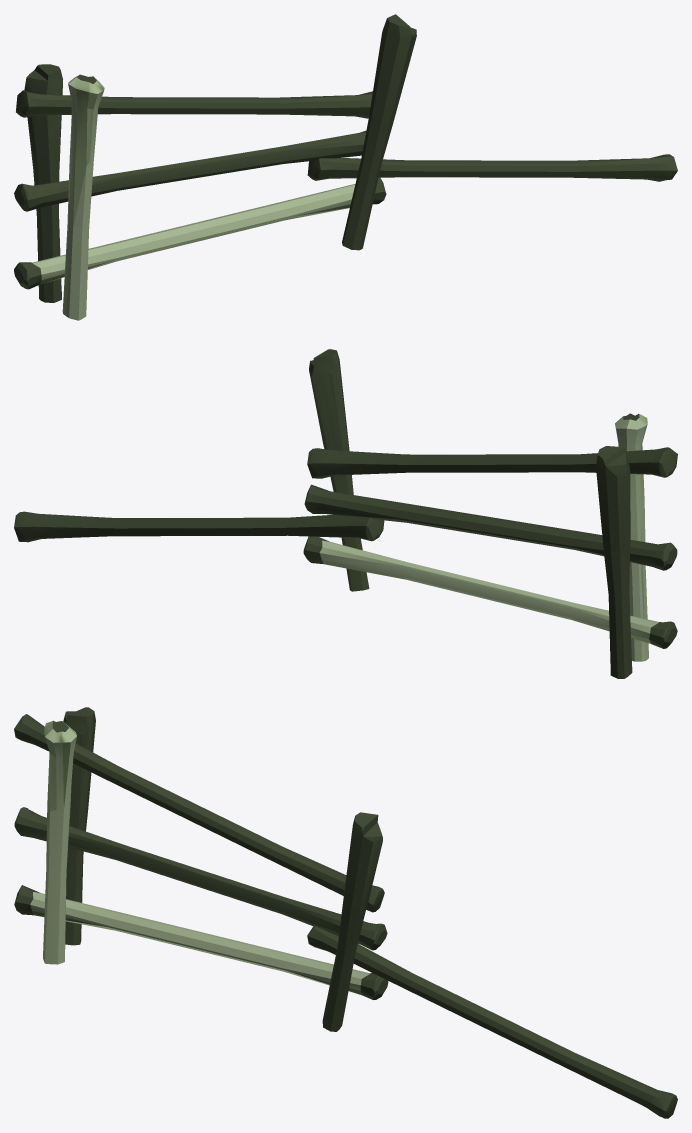
The model's file is EA_Fence_02a.glb.
3 renders of one model, top to bottom at view 1: azimuth 30°, elevation 25°; view 2: azimuth 150°, elevation 25°; view 3: azimuth 330°, elevation 25°, orthographic.
Visible parts, largest first — view 1: EA_Fence_02a; view 2: EA_Fence_02a; view 3: EA_Fence_02a.
Boxes of the visible parts, left/top/right/bottom form: EA_Fence_02a: left=14, top=14, right=677, bottom=320; EA_Fence_02a: left=14, top=349, right=677, bottom=678; EA_Fence_02a: left=14, top=707, right=677, bottom=1118.
Size of the model in its own units: 2.64 by 0.9955 by 0.3576.
1 material, 1 textured.
